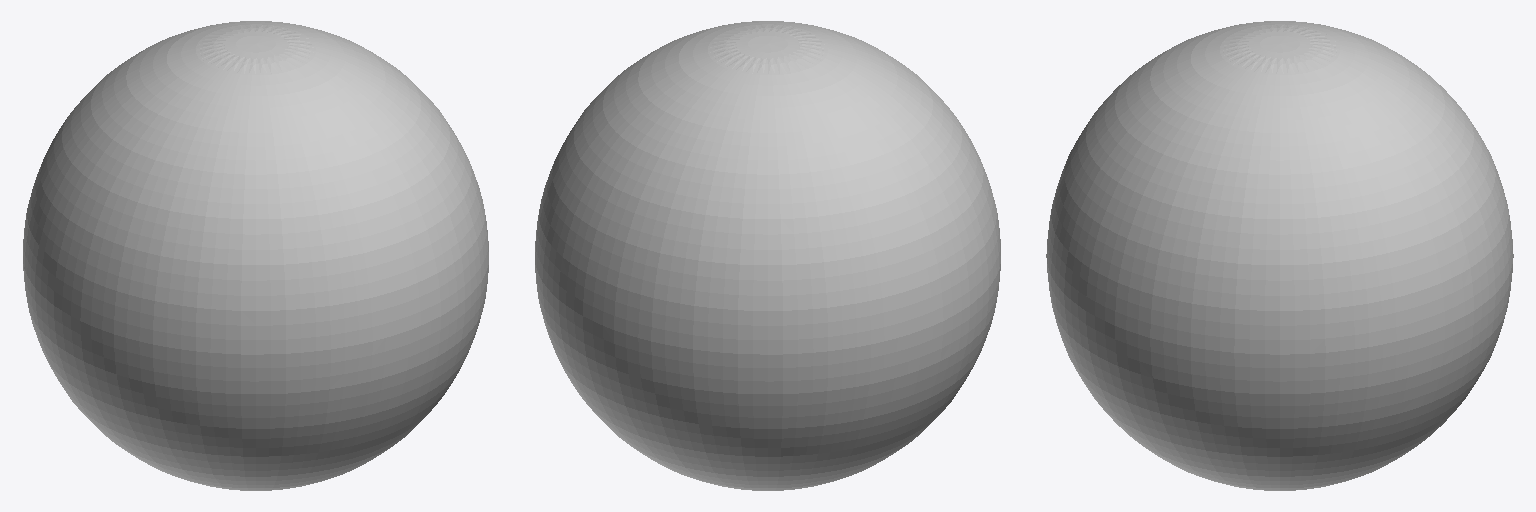
The model's file is MugenStageSphereB.obj.
3 views of the same model, side by side, from view 1: azimuth 30°, elevation 25°; view 2: azimuth 150°, elevation 25°; view 3: azimuth 270°, elevation 25° (orthographic).
Visible parts, largest first — view 1: 球.001; view 2: 球.001; view 3: 球.001.
Boxes of the visible parts, x1,y1,x2,y2 form: 球.001: [23, 21, 488, 490]; 球.001: [535, 21, 1000, 490]; 球.001: [1046, 21, 1513, 490].
Size of the model in its own units: 18.1 by 18.15 by 18.1.